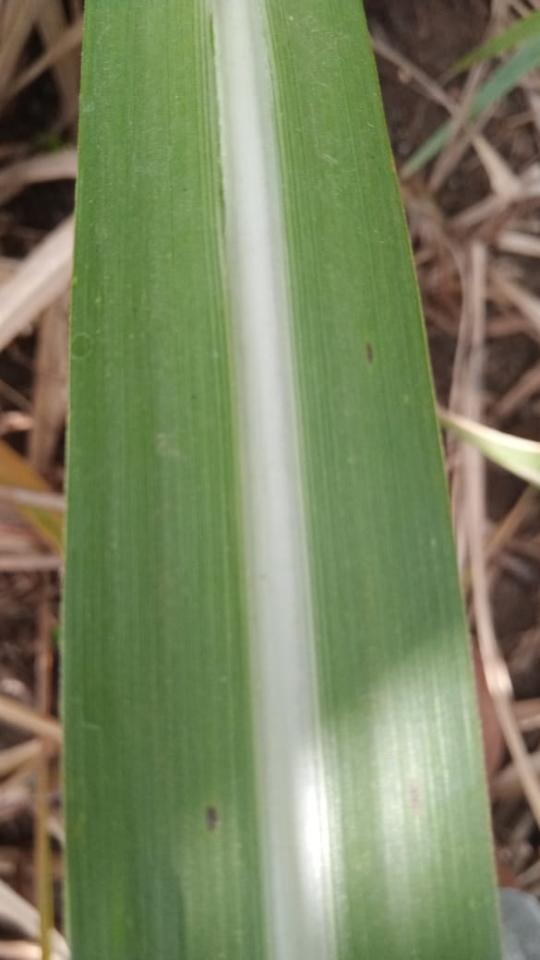Healthy: (65, 0, 506, 959)
